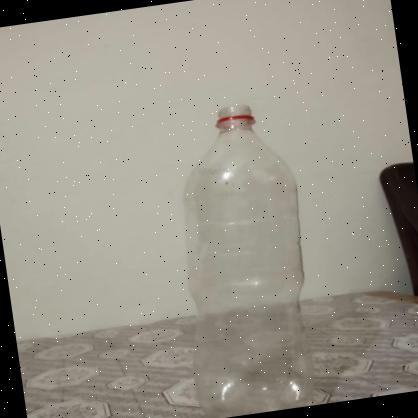bottle: (159, 95, 336, 418)
